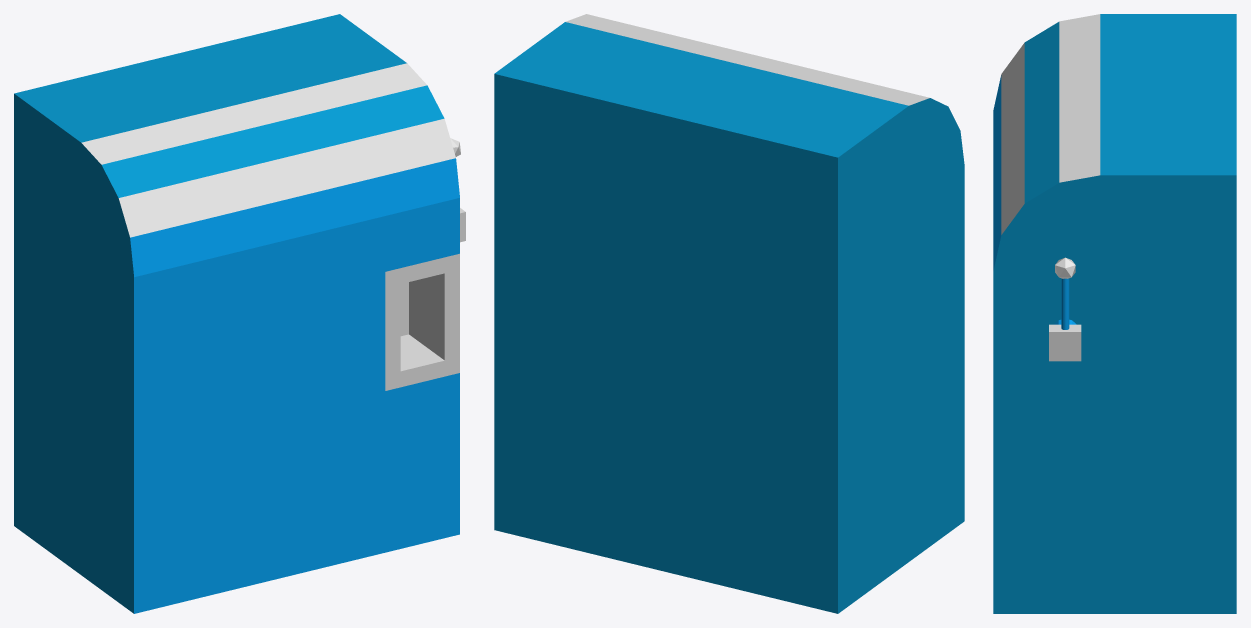
Rendered from machine2.glb.
3 views of the same model, side by side, from view 1: azimuth 30°, elevation 25°; view 2: azimuth 150°, elevation 25°; view 3: azimuth 270°, elevation 25° (orthographic). The views are drawn at different scales.
Parts seen in each view (by area): view 1: machine; view 2: machine; view 3: machine, Cylinder.
Boxes of the visible parts, x1,y1,x2,y2 form: machine: (14,14,459,613); machine: (494,14,964,613); machine: (993,14,1236,613); Cylinder: (1049,257,1081,361).
Size of the model in its own units: 1.49 by 1.7 by 0.8554.
